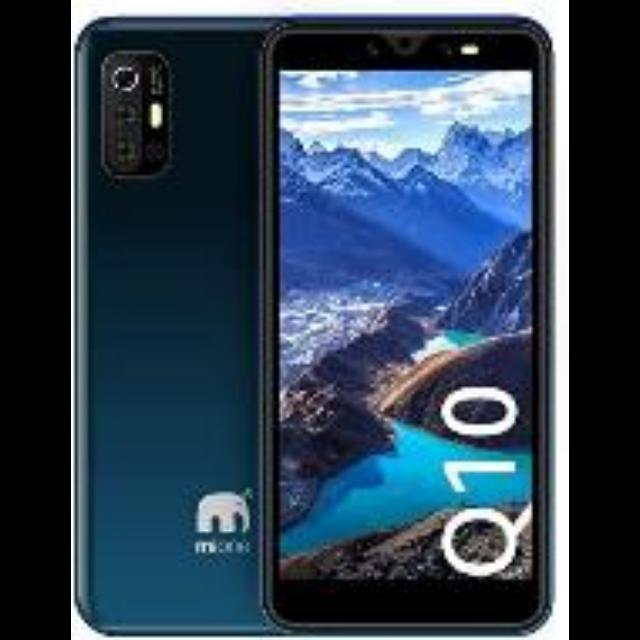Phone: (274, 21, 556, 634), (75, 13, 263, 632)
